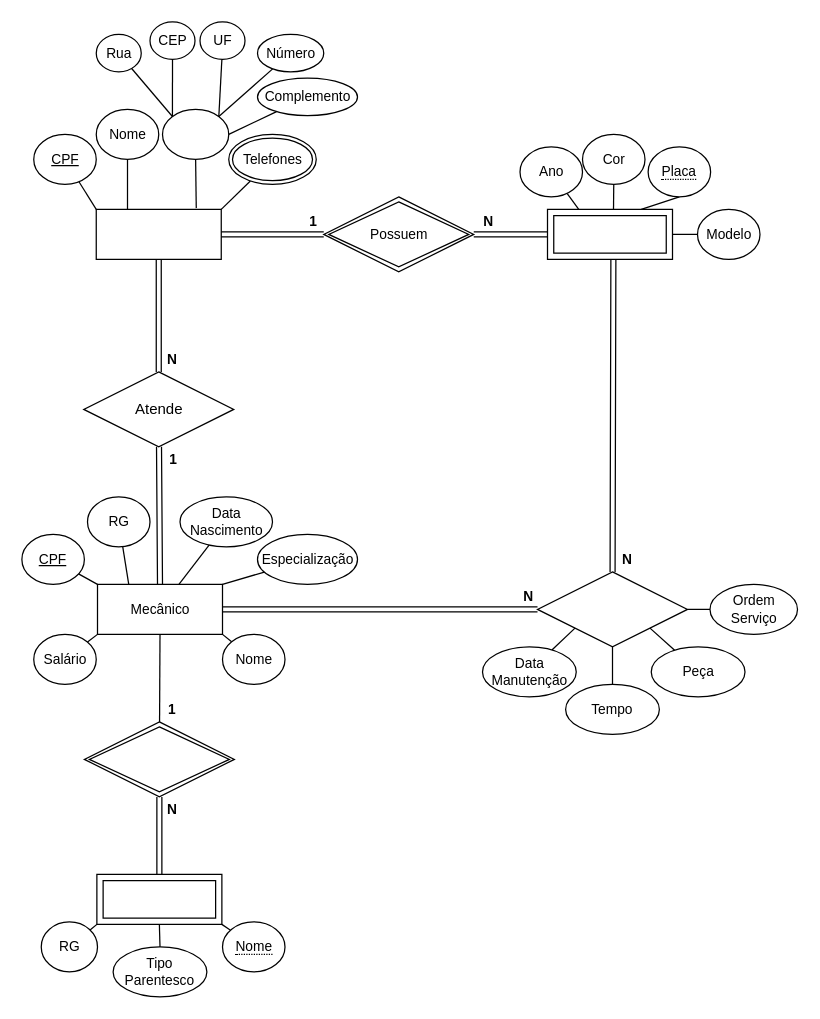
Image size: 820x1019. Some labels were removed from this diagram. The centre of each missing label's shape, as x and y in pixels:
Automóvel: the point at 609,233
Cliente: the point at 158,233
Dependente: the point at 159,898
Endereço: the point at 195,133
Realiza Manutenção: the point at 612,609
Tem: the point at 158,759
